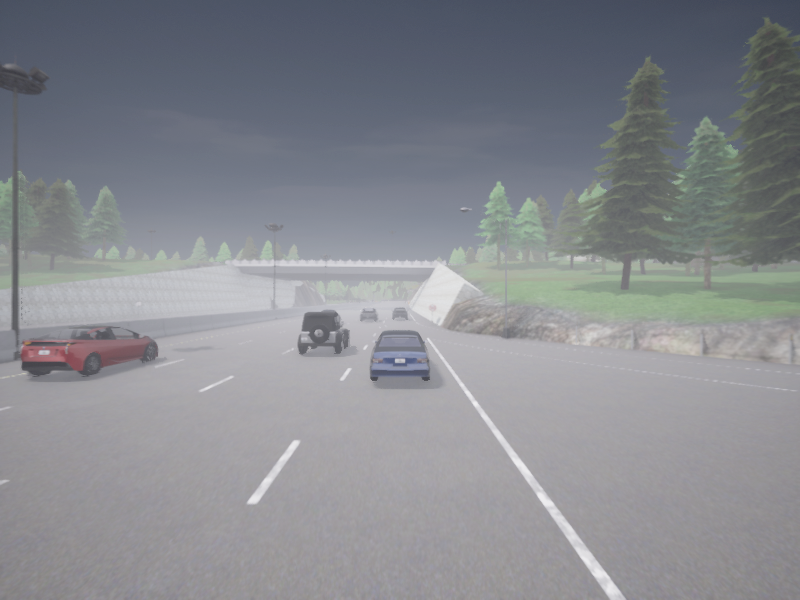vehicle: (20, 325, 157, 376), (370, 330, 430, 379), (298, 312, 349, 353), (322, 309, 340, 322), (360, 308, 378, 320), (391, 307, 408, 319)
